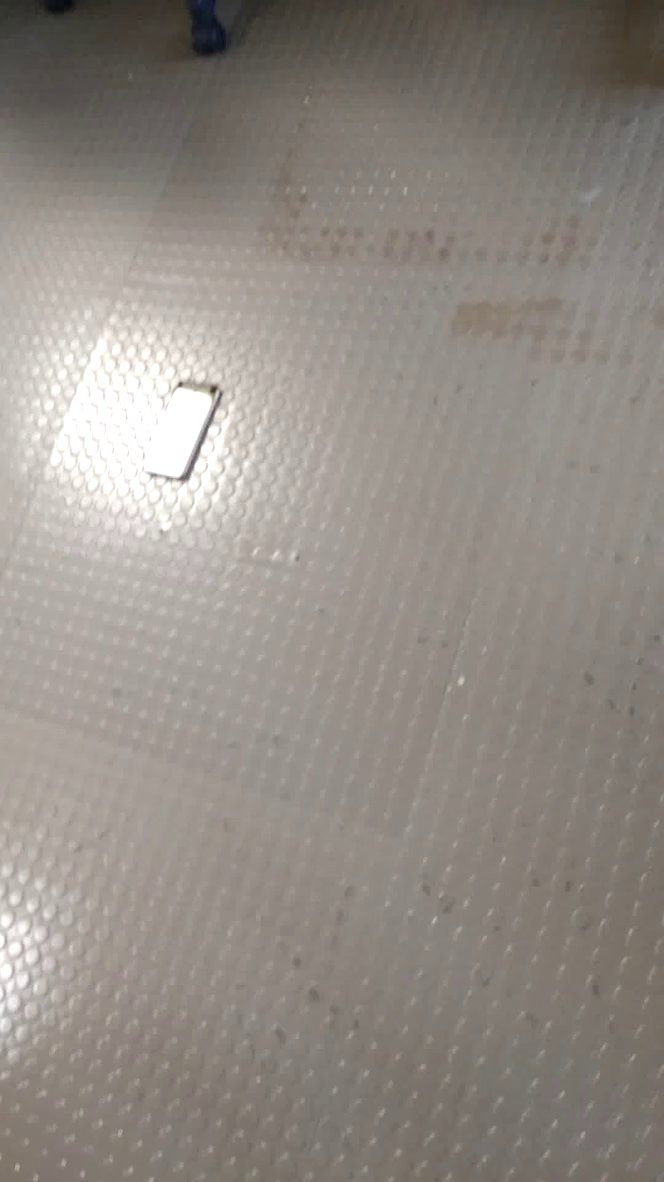phone: (138, 372, 238, 491)
